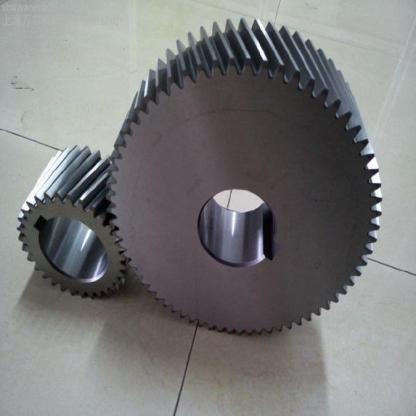FOD: (103, 13, 382, 337), (14, 140, 136, 302)
